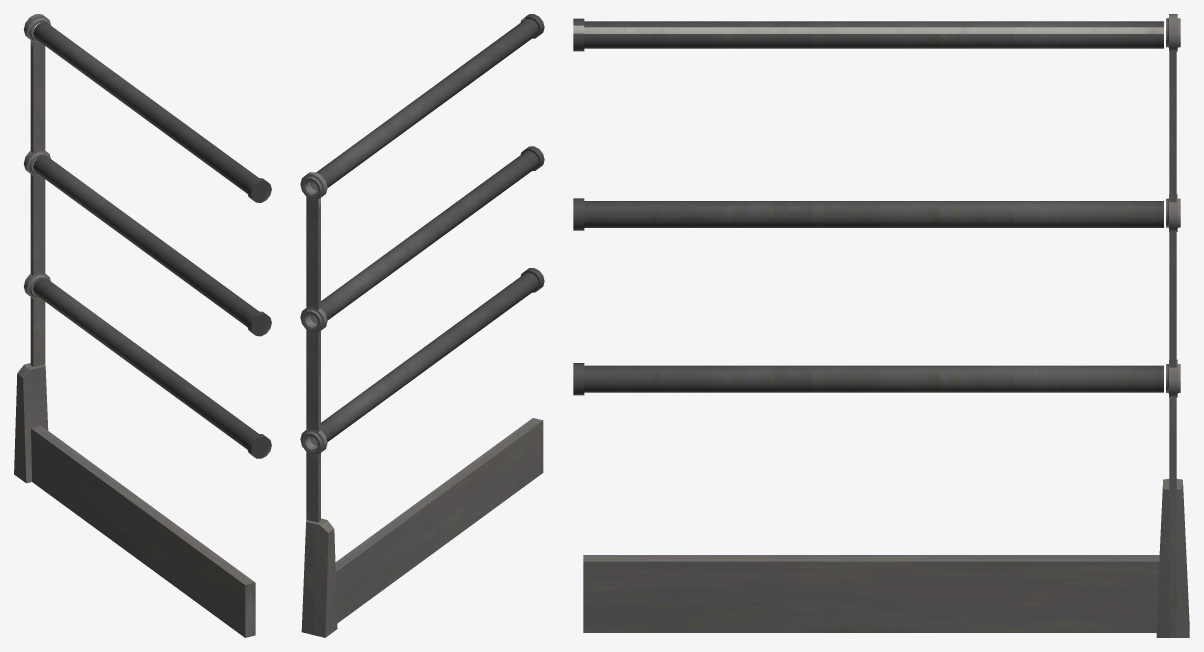
The model's file is Railing_p2.fbx.
3 renders of one model, left to right at view 1: azimuth 30°, elevation 25°; view 2: azimuth 150°, elevation 25°; view 3: azimuth 270°, elevation 25°, orthographic. The views are drawn at different scales.
Visible parts, largest first — view 1: Railing_p2; view 2: Railing_p2; view 3: Railing_p2.
Part boxes in pixels (left/top/right/bottom): Railing_p2: left=14, top=14, right=271, bottom=637; Railing_p2: left=300, top=14, right=544, bottom=637; Railing_p2: left=573, top=14, right=1189, bottom=637.
Bounding box in the file's own units: 0.1494 × 2.21 × 2.
